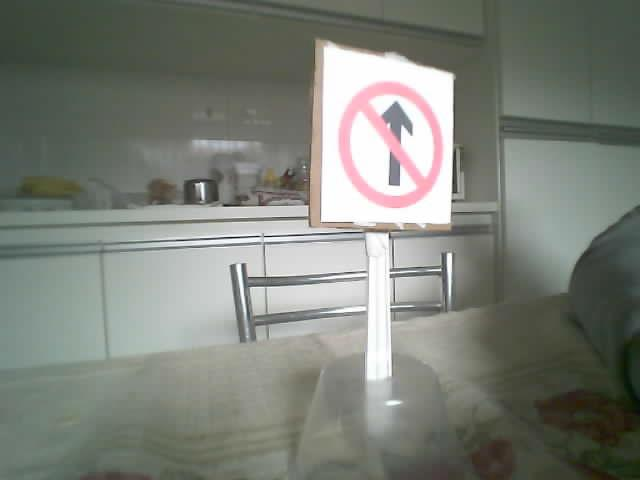R-3_sentido-proibido: (337, 79, 445, 209)
